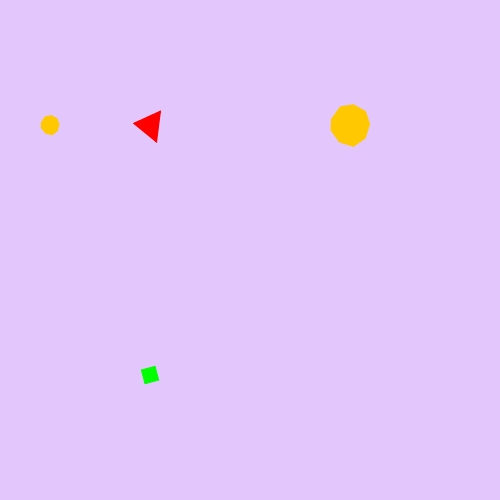nonagon: (325, 102, 375, 149), (36, 111, 65, 139)
quadrilateral: (135, 360, 165, 390)
triangle: (132, 106, 168, 144)
